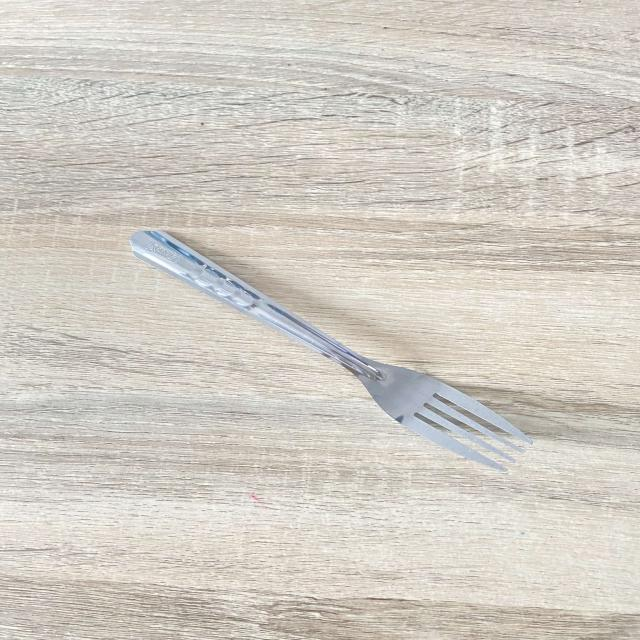fork: (119, 222, 553, 481)
